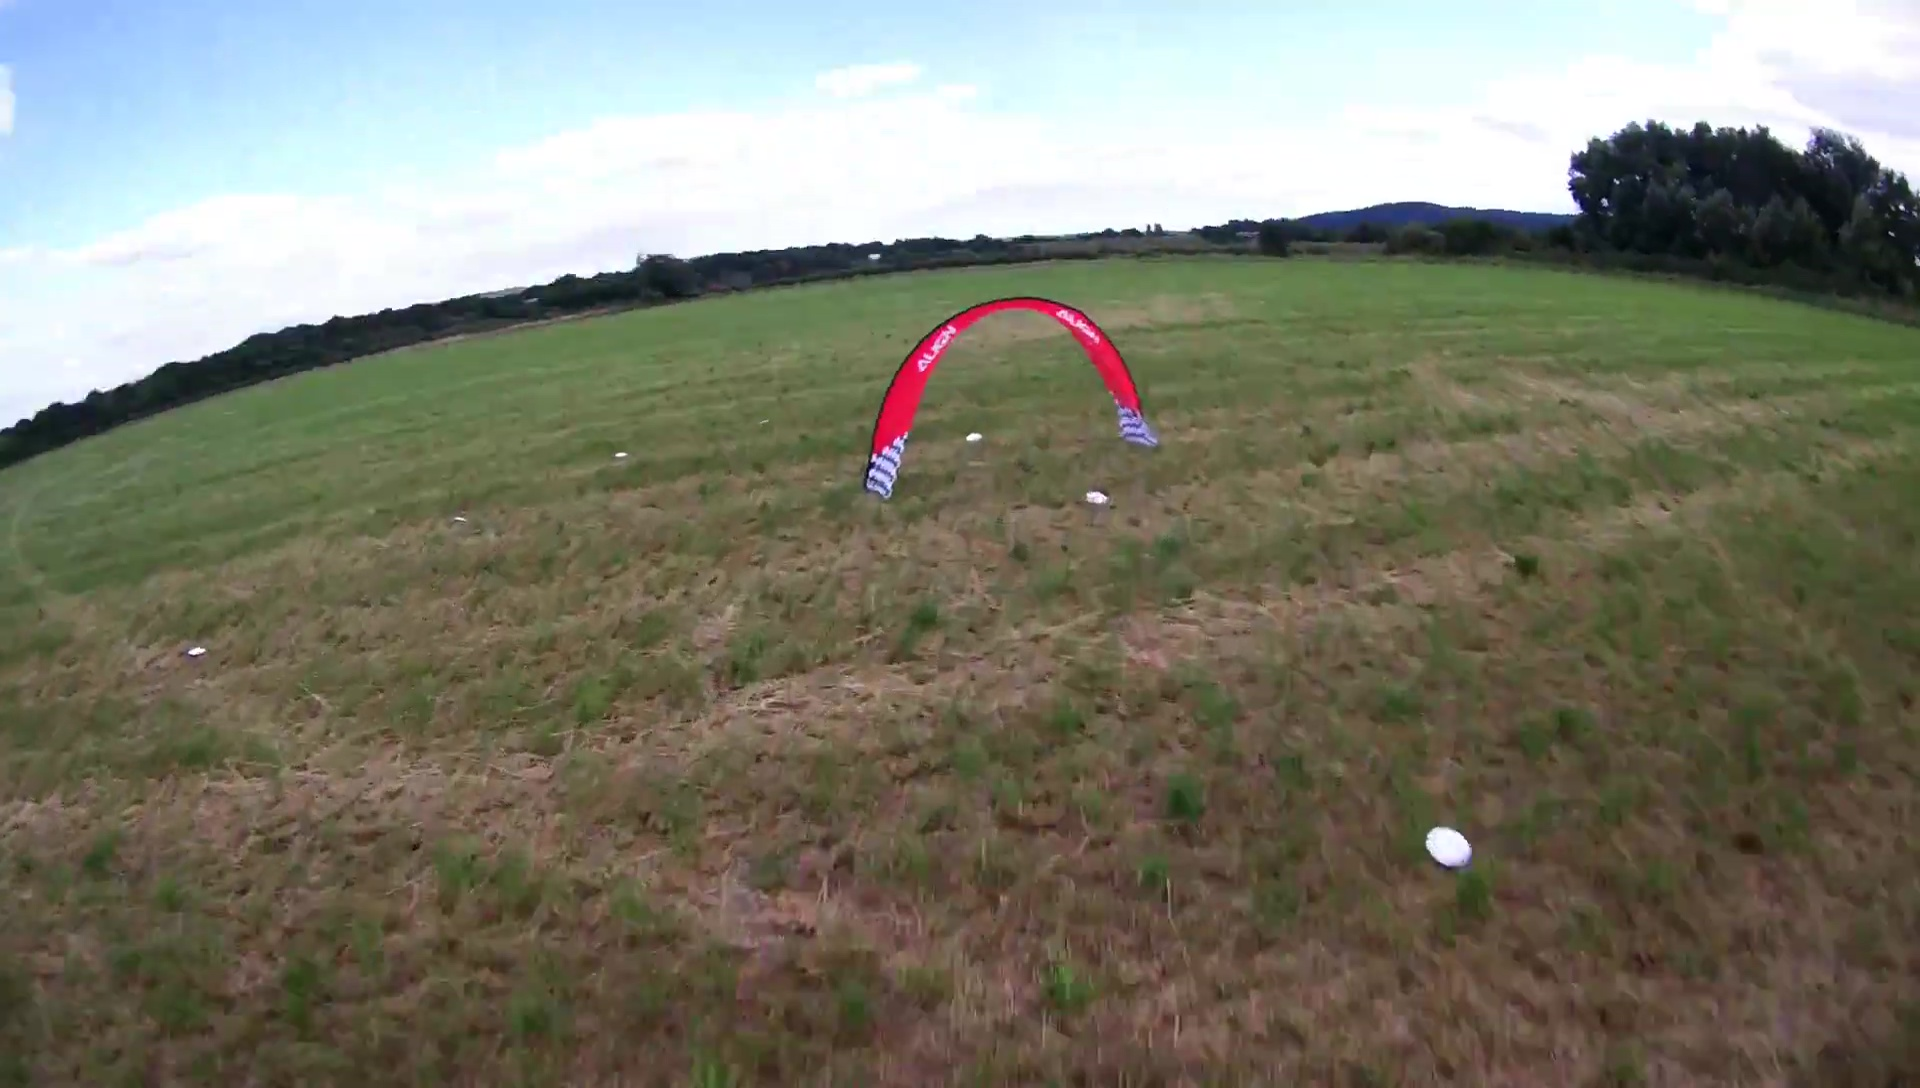gate: (862, 293, 1164, 499)
